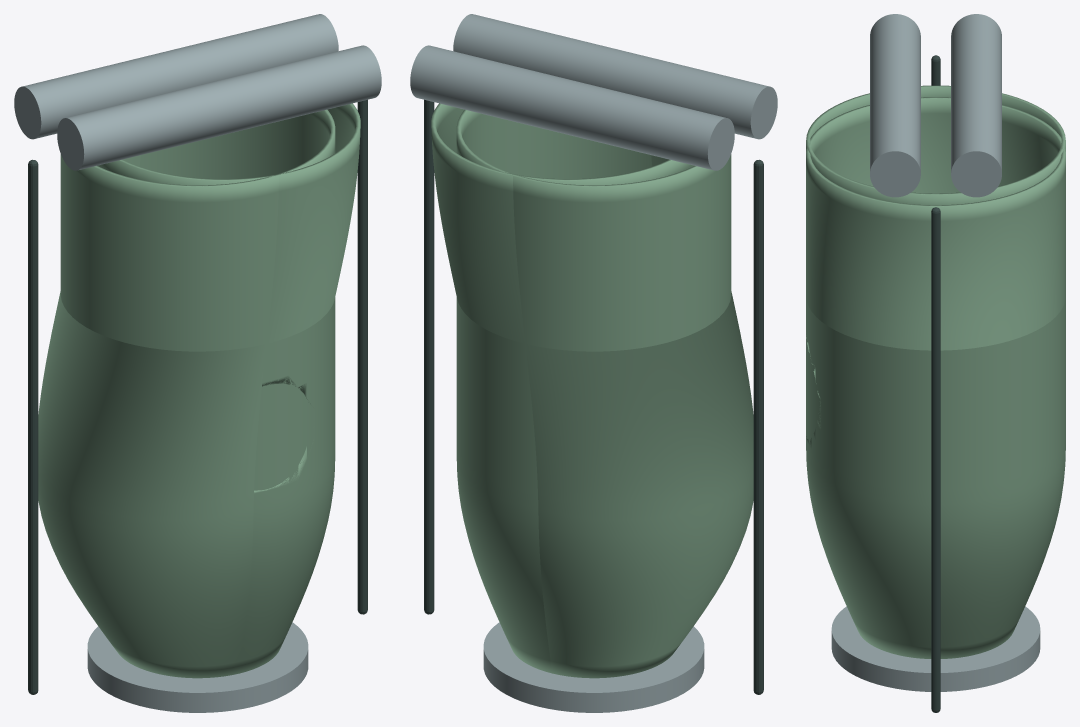
The model's file is bubble.glb.
3 views of the same model, side by side, from view 1: azimuth 30°, elevation 25°; view 2: azimuth 150°, elevation 25°; view 3: azimuth 270°, elevation 25° (orthographic). The views are drawn at different scales.
Visible parts, largest first — view 1: Film bubble.001, Film bubble.002, Nip roll.004, Nip roll.005, Die ring.002, Bubble guide.004, Bubble guide.005, Film bubble; view 2: Film bubble.001, Film bubble.002, Nip roll.005, Nip roll.004, Die ring.002, Bubble guide.004, Bubble guide.005; view 3: Film bubble.002, Film bubble.001, Nip roll.004, Nip roll.005, Die ring.002, Bubble guide.005, Film bubble.
Boxes of the visible parts, box(x1,y1,x2,y2) form: Film bubble.001: box(38, 103, 360, 678); Film bubble.002: box(60, 109, 335, 673); Nip roll.004: box(57, 45, 381, 170); Nip roll.005: box(14, 14, 338, 139); Die ring.002: box(87, 622, 308, 712); Bubble guide.004: box(28, 159, 38, 694); Bubble guide.005: box(357, 99, 367, 614); Film bubble: box(254, 372, 314, 490); Film bubble.001: box(431, 103, 753, 678); Film bubble.002: box(456, 109, 731, 673); Nip roll.005: box(410, 45, 734, 170); Nip roll.004: box(453, 14, 777, 139); Die ring.002: box(483, 622, 704, 712); Bubble guide.004: box(753, 159, 763, 694); Bubble guide.005: box(424, 99, 434, 614); Film bubble.002: box(806, 85, 1065, 658); Film bubble.001: box(806, 97, 1065, 350); Nip roll.004: box(870, 14, 920, 197); Nip roll.005: box(951, 14, 1001, 197); Die ring.002: box(831, 606, 1040, 691); Bubble guide.005: box(931, 207, 940, 712); Film bubble: box(806, 333, 821, 449).
Bounding box in the file's own units: 3.18 × 5.38 × 2.24.
